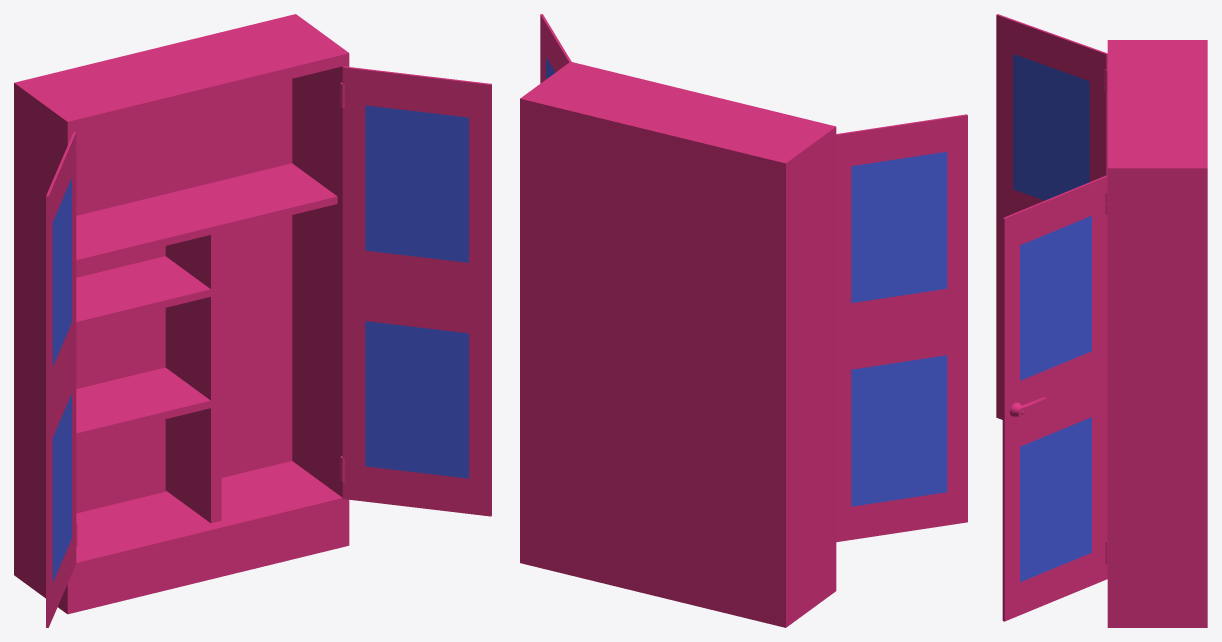
The model's file is Gun 2Open.fbx.
3 renders of one model, left to right at view 1: azimuth 30°, elevation 25°; view 2: azimuth 150°, elevation 25°; view 3: azimuth 270°, elevation 25°, orthographic. The views are drawn at different scales.
Visible parts, largest first — view 1: dOOR.002; view 2: dOOR.002; view 3: dOOR.002.
Boxes of the visible parts, x1,y1,x2,y2 form: dOOR.002: (14,14,491,627); dOOR.002: (520,14,967,627); dOOR.002: (996,14,1207,627).
Bounding box in the file's own units: 2.04 × 2.13 × 0.8892.
